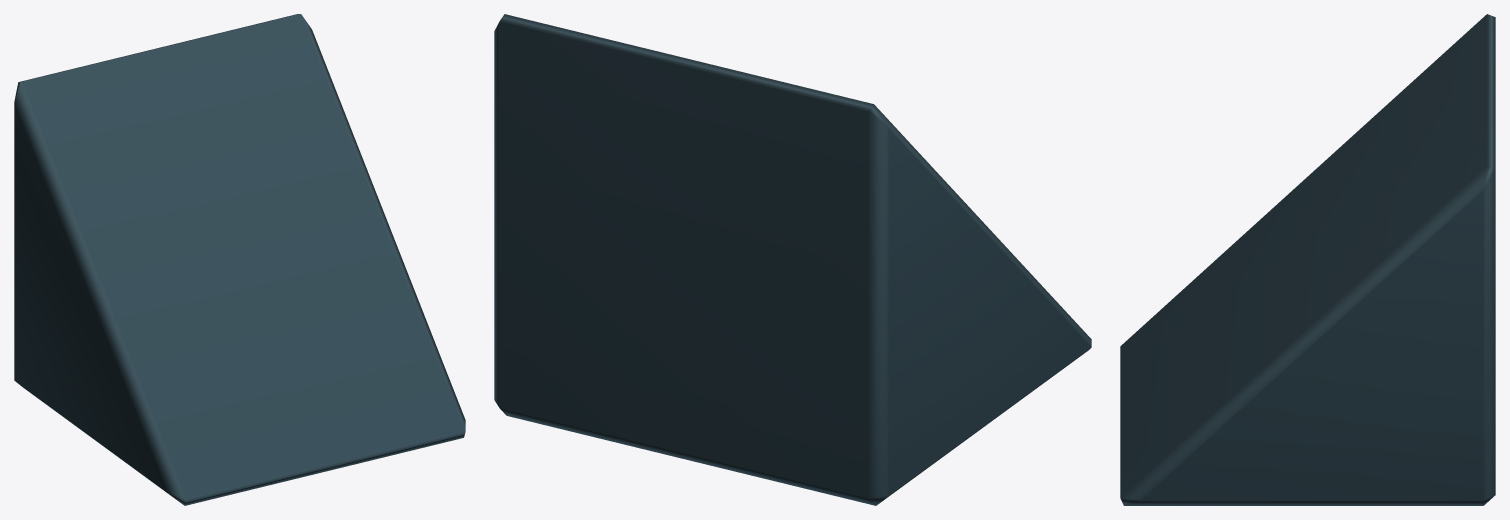
File: ramp_straight_hue_4.fbx
The picture shows the model from 3 angles, left to right: view 1: azimuth 30°, elevation 25°; view 2: azimuth 150°, elevation 25°; view 3: azimuth 270°, elevation 25°; orthographic projection. The views are drawn at different scales.
Visible parts, largest first — view 1: ramp_straight_hue_4; view 2: ramp_straight_hue_4; view 3: ramp_straight_hue_4.
Part boxes in pixels (left/top/right/bottom): ramp_straight_hue_4: left=14, top=14, right=465, bottom=505; ramp_straight_hue_4: left=494, top=14, right=1091, bottom=505; ramp_straight_hue_4: left=1120, top=14, right=1495, bottom=505.
Size of the model in its own units: 100 by 97.79 by 97.79.
